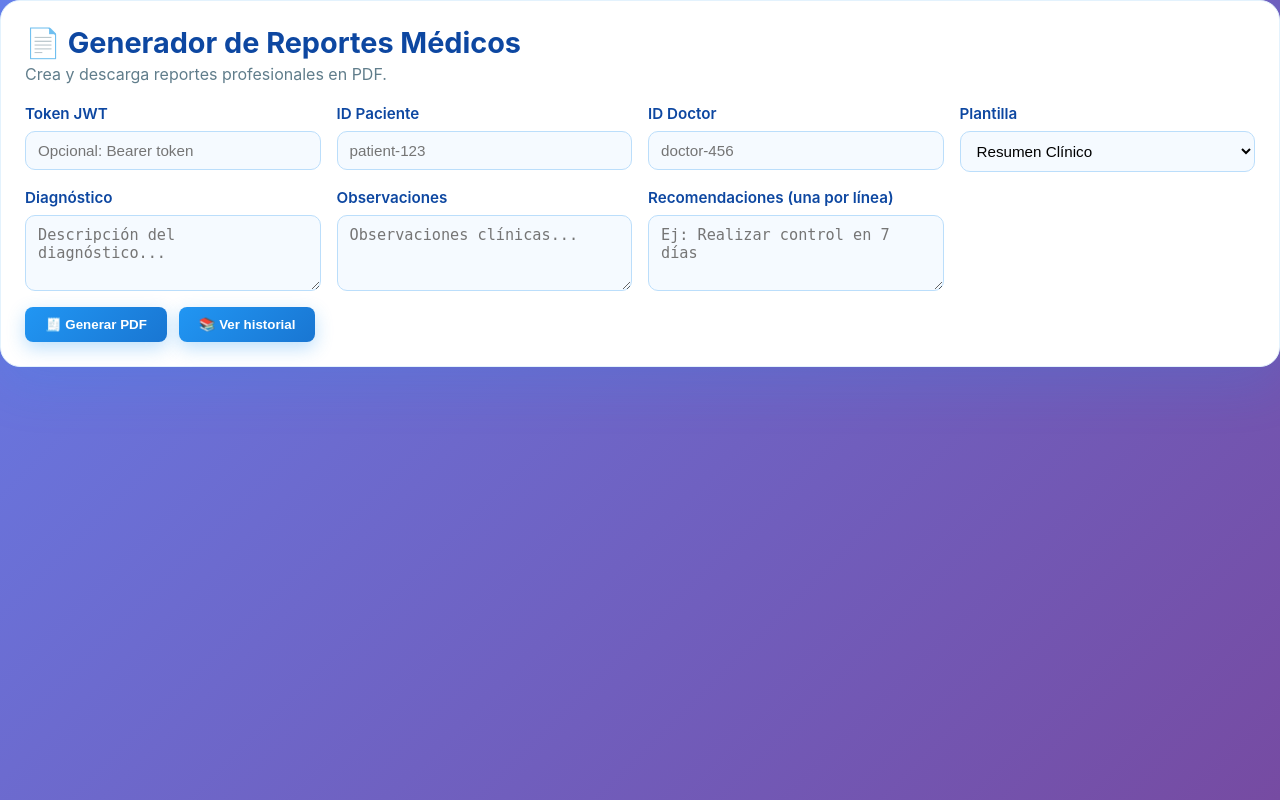
Test: MedicalReport component › requiere un ID de paciente para cargar historial
Click the button "📚 Ver historial" at (247, 324), box [179, 307, 315, 342]
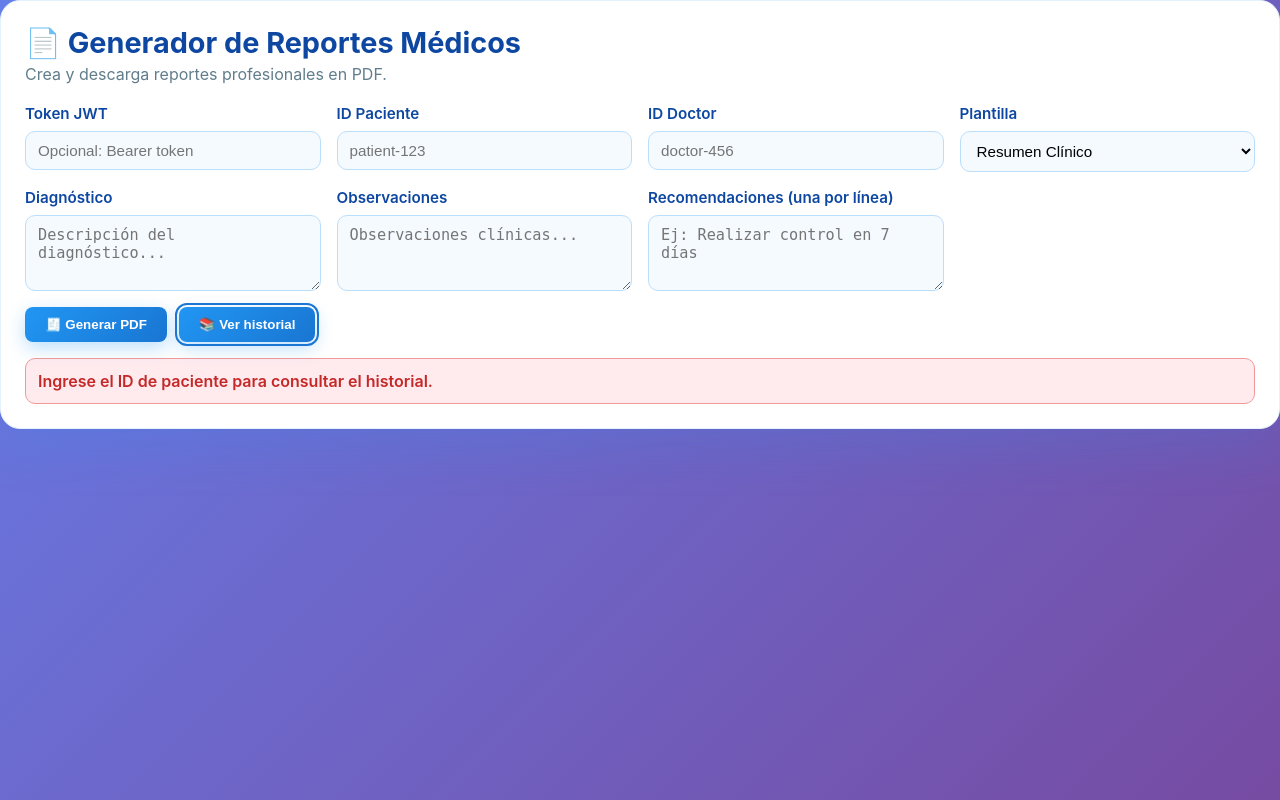
Result: the text "Ingrese el ID de paciente para consultar el historial." is shown at [25, 358, 1255, 404]
